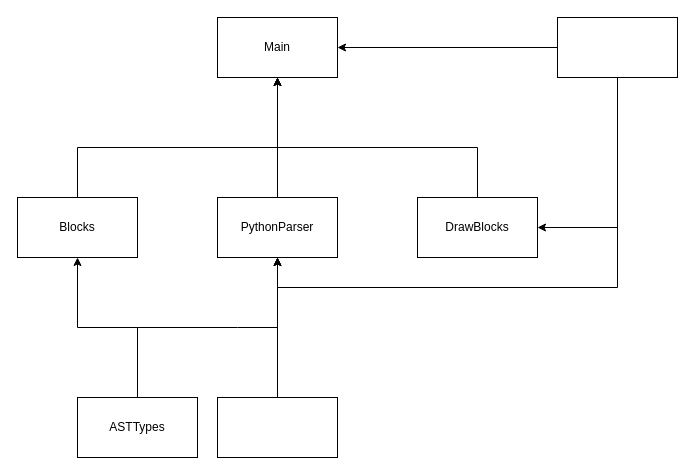
Image size: 695x475. Some labels were removed from this diagram. Each missing label, with the box of its shape:
HelperFunctions: (556, 16, 678, 78)
IndentParsing: (216, 396, 338, 458)
